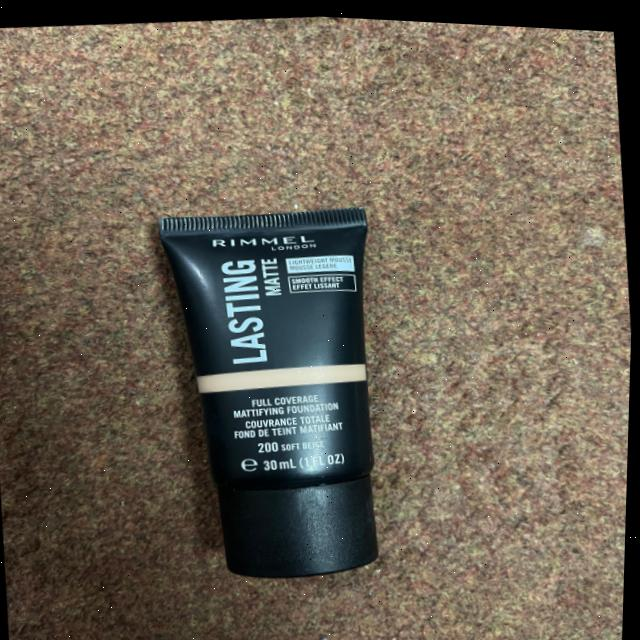foundation: (133, 168, 431, 605)
